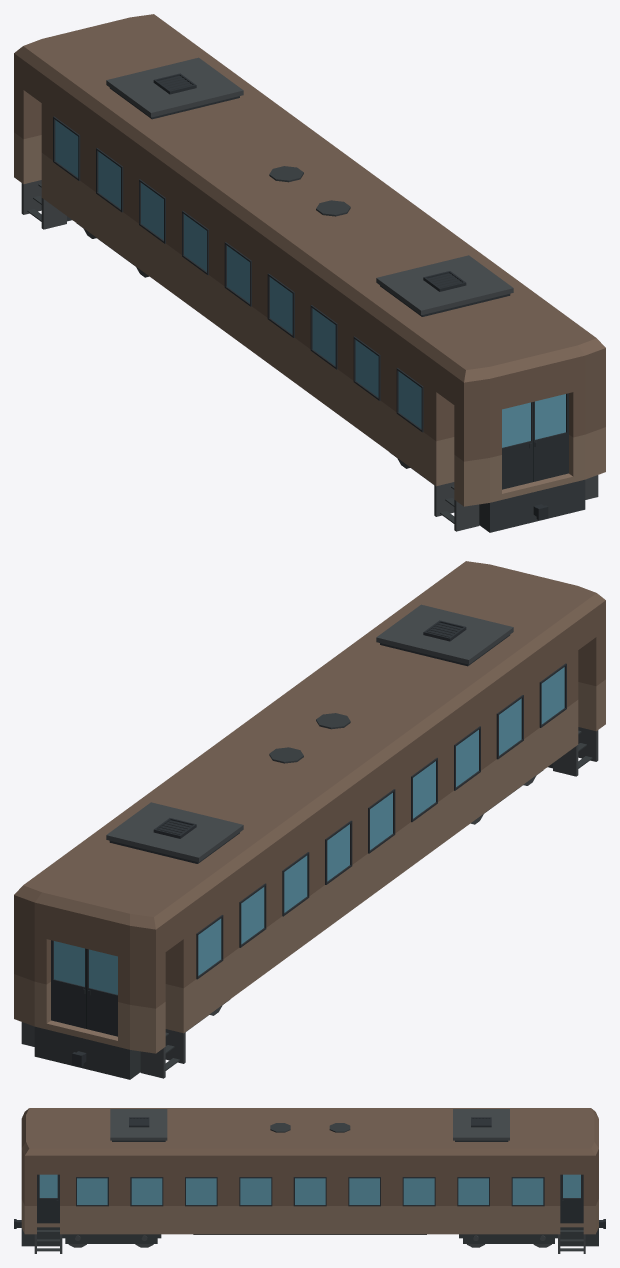
Rendered from SM_Trains_Train_02_C1.glb.
3 views of the same model, one above another, from view 1: azimuth 30°, elevation 25°; view 2: azimuth 150°, elevation 25°; view 3: azimuth 270°, elevation 25° (orthographic). The views are drawn at different scales.
Visible parts, largest first — view 1: SM_Trains_Train_02_C1; view 2: SM_Trains_Train_02_C1; view 3: SM_Trains_Train_02_C1.
Boxes of the visible parts, x1,y1,x2,y2 form: SM_Trains_Train_02_C1: [14, 14, 605, 532]; SM_Trains_Train_02_C1: [14, 561, 605, 1079]; SM_Trains_Train_02_C1: [14, 1108, 605, 1253].
Bounding box in the file's own units: 3.56 × 4.27 × 19.92.
1 material, 1 textured.
